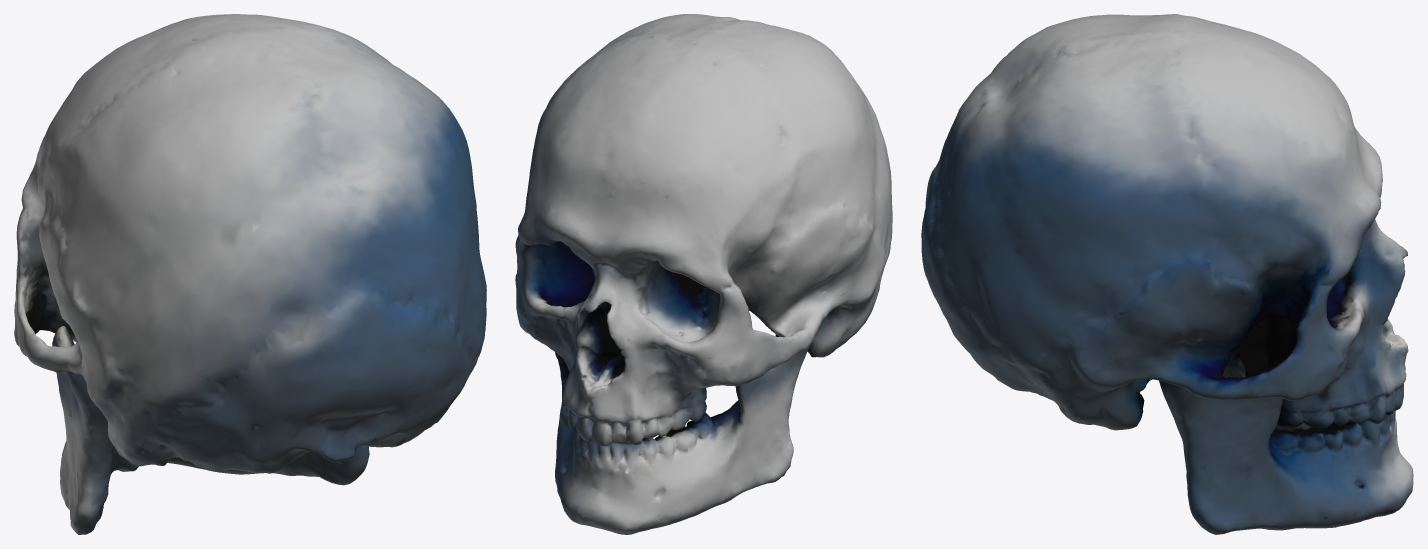
The model's file is skull.glb.
3 views of the same model, side by side, from view 1: azimuth 30°, elevation 25°; view 2: azimuth 150°, elevation 25°; view 3: azimuth 270°, elevation 25° (orthographic). The views are drawn at different scales.
Visible parts, largest first — view 1: test; view 2: test; view 3: test.
Boxes of the visible parts, x1,y1,x2,y2 form: test: (14,14,486,534); test: (515,14,892,534); test: (921,14,1413,534).
Bounding box in the file's own units: 47.54 × 60.96 × 58.04.
